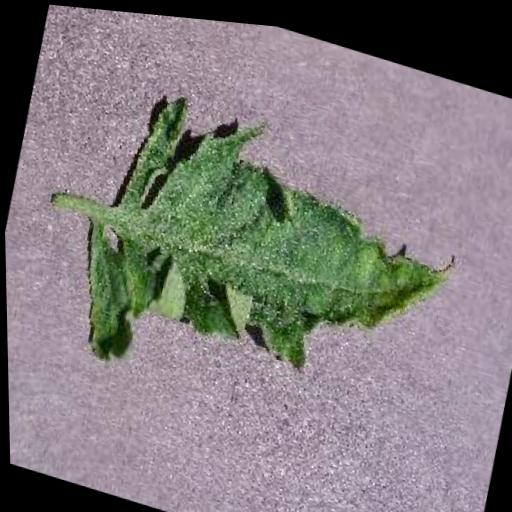Mosaic Virus: (55, 65, 479, 457)
